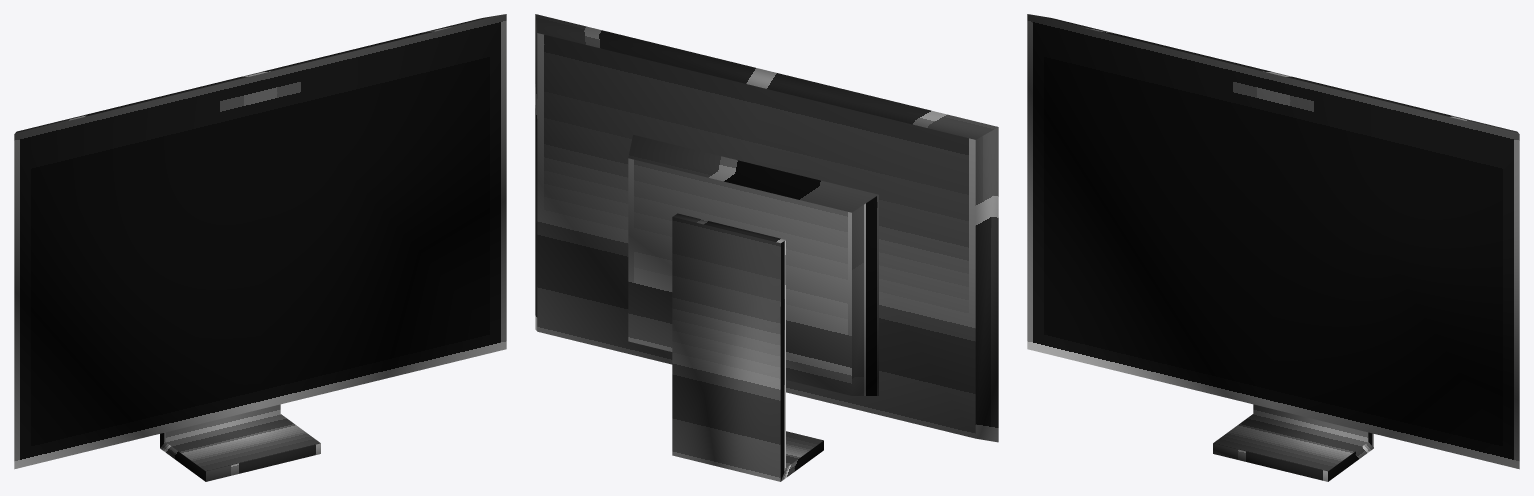
3 renders of one model, left to right at view 1: azimuth 30°, elevation 25°; view 2: azimuth 150°, elevation 25°; view 3: azimuth 330°, elevation 25°, orthographic. The views are drawn at different scales.
Visible parts, largest first — view 1: 3497IMEL01_14; view 2: 3497IMEL01_14; view 3: 3497IMEL01_14.
Boxes of the visible parts, box(x1,y1,x2,y2) form: 3497IMEL01_14: box(14, 14, 506, 481); 3497IMEL01_14: box(535, 14, 998, 481); 3497IMEL01_14: box(1027, 14, 1519, 481).
Bounding box in the file's own units: 1.95 × 1.49 × 0.3159.
3 materials, 3 textured.
